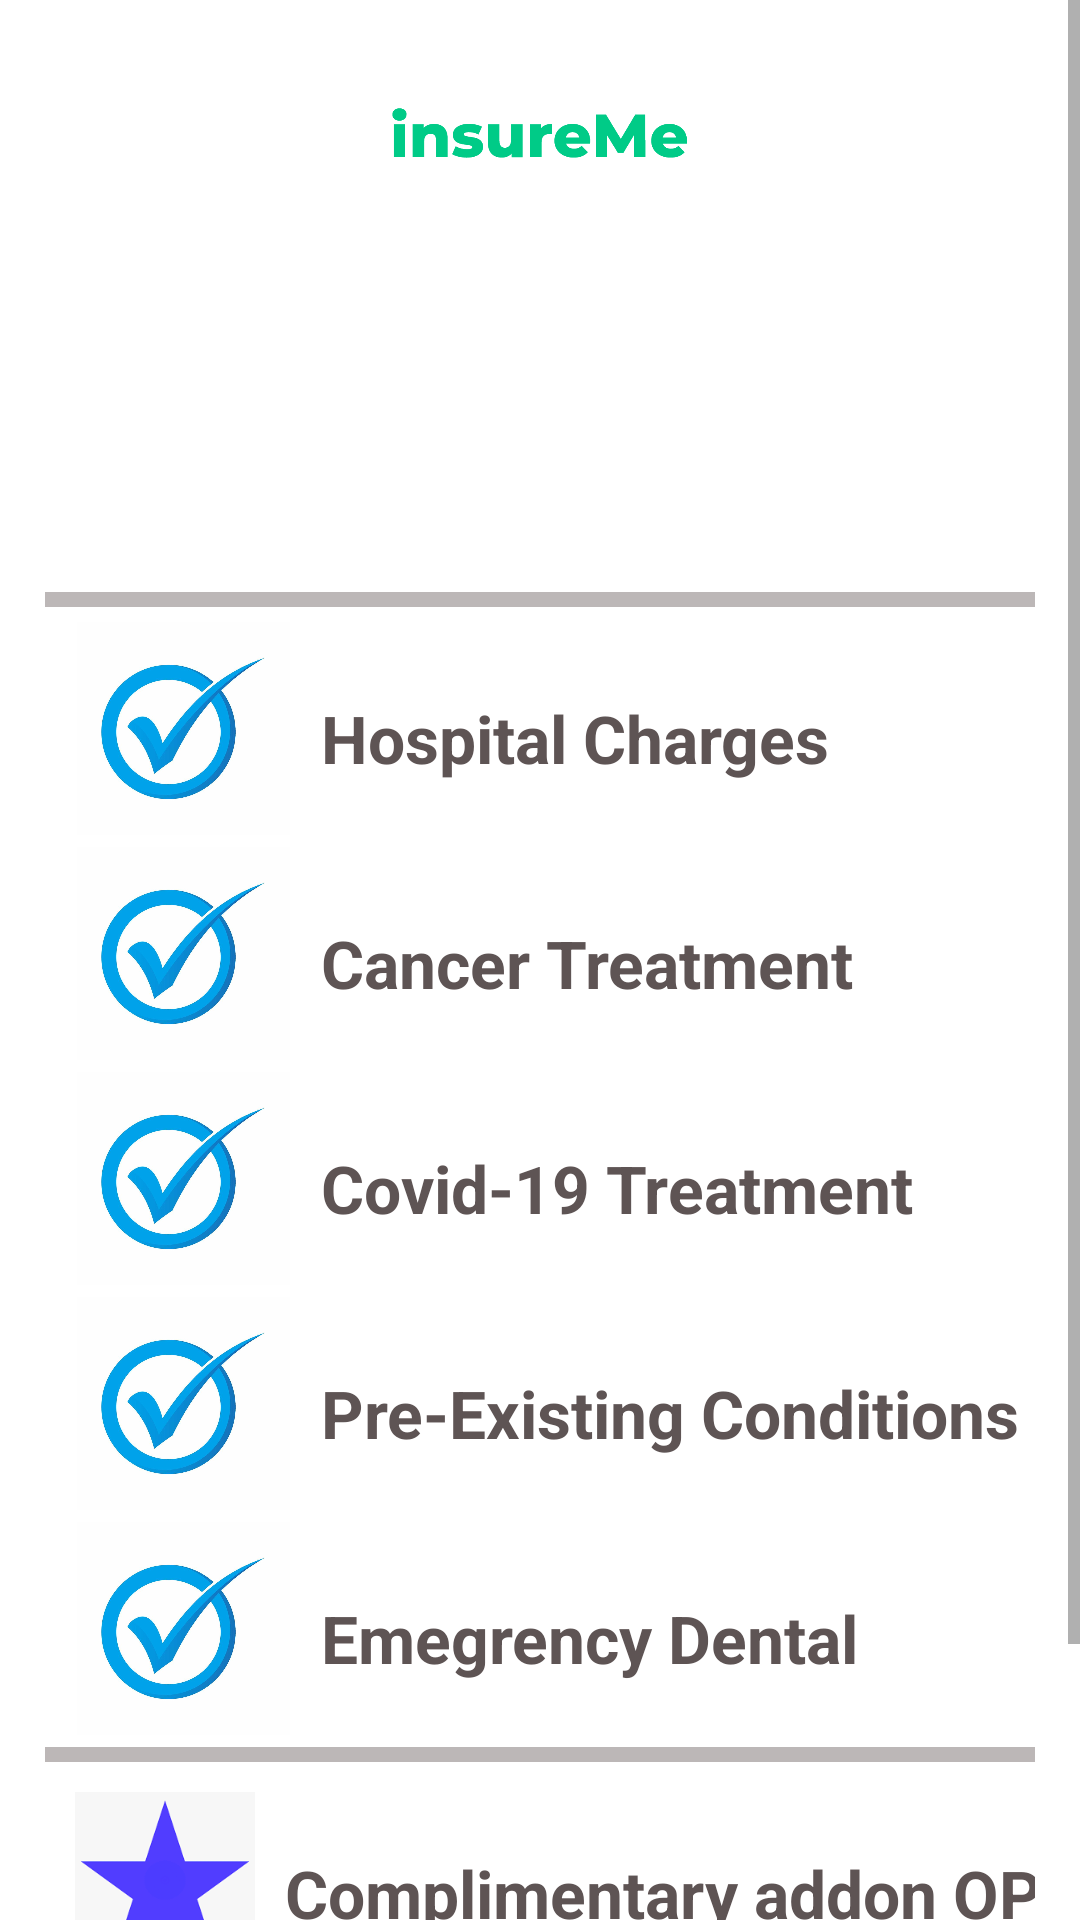

Point at icon controls on the screen. Image size 1080 × 1920, points as point (x, y).
tick: point (182, 728), point (182, 953), point (182, 1178), point (182, 1403), point (182, 1628)
